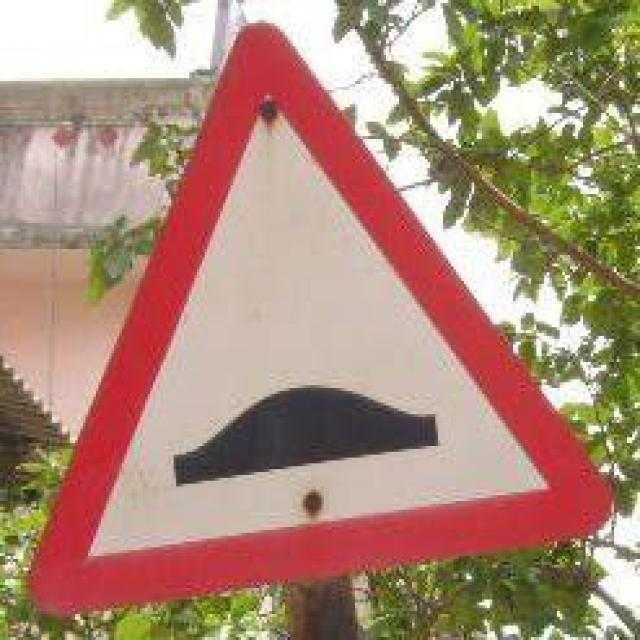hump or rough road: (34, 27, 606, 617)
